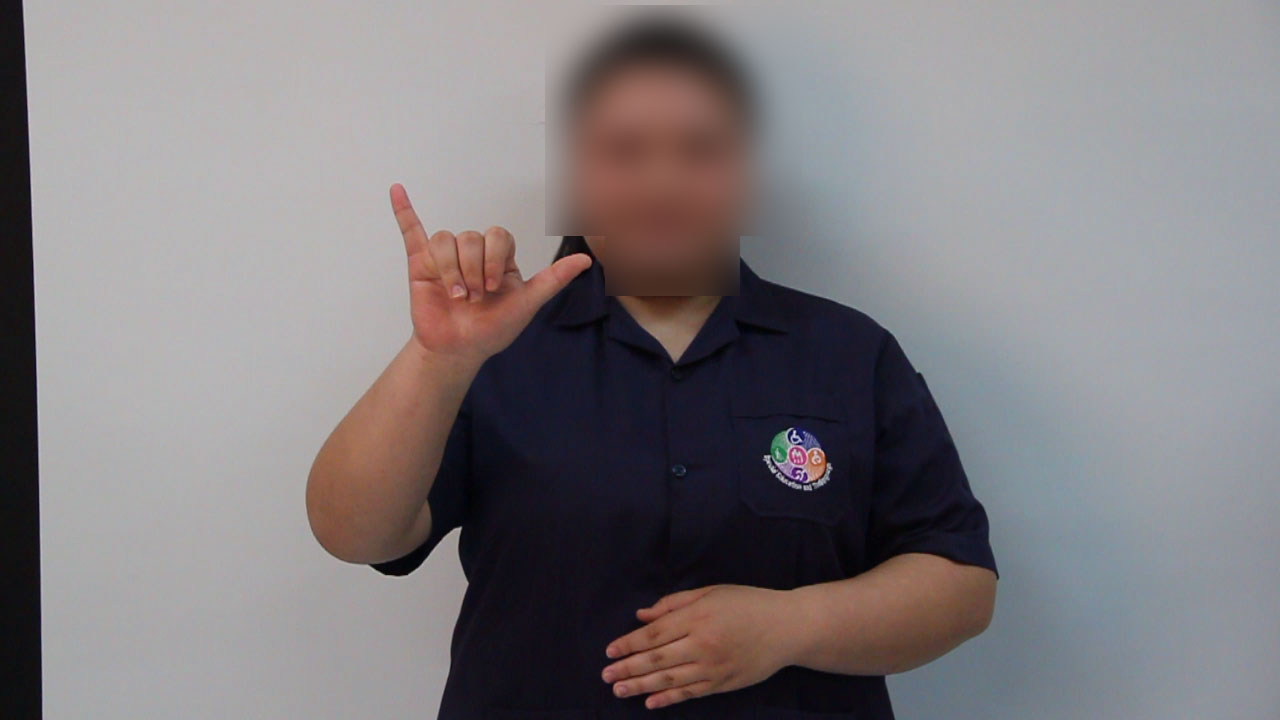yor: (379, 174, 603, 371)
